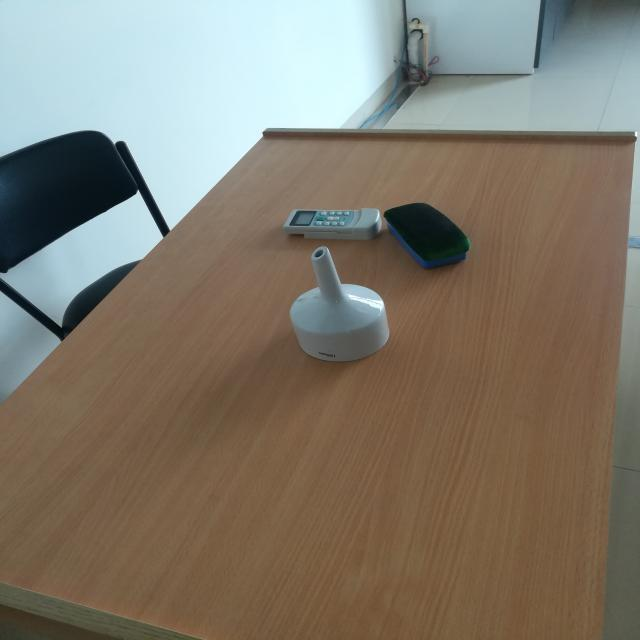Buchner_Funnel: (228, 211, 425, 390)
